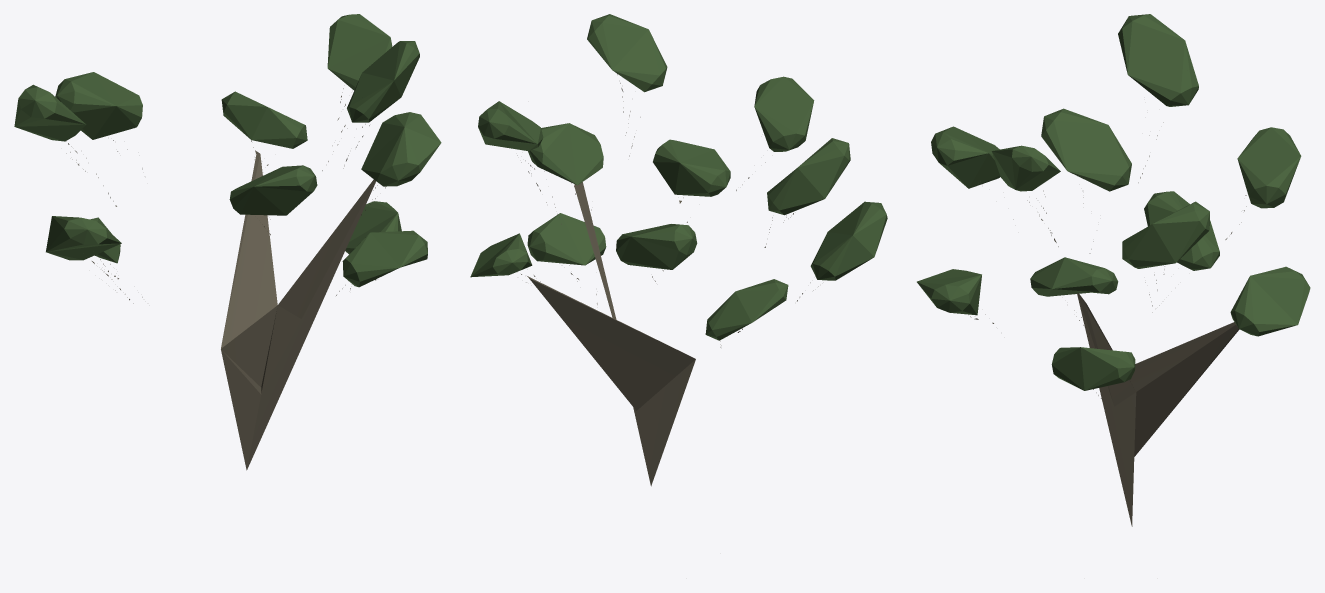
File: CheneVert_1_Niveau2.fbx
3 renders of one model, left to right at view 1: azimuth 30°, elevation 25°; view 2: azimuth 150°, elevation 25°; view 3: azimuth 270°, elevation 25°, orthographic. The views are drawn at different scales.
Parts seen in each view (by area): view 1: CheneVert_1_Niveau2_Jeu; view 2: CheneVert_1_Niveau2_Jeu; view 3: CheneVert_1_Niveau2_Jeu.
Boxes of the visible parts, box(x1,y1,x2,y2) form: CheneVert_1_Niveau2_Jeu: box(14, 14, 441, 470); CheneVert_1_Niveau2_Jeu: box(470, 14, 887, 486); CheneVert_1_Niveau2_Jeu: box(917, 14, 1310, 526).
Bounding box in the file's own units: 439 × 578 × 408.
